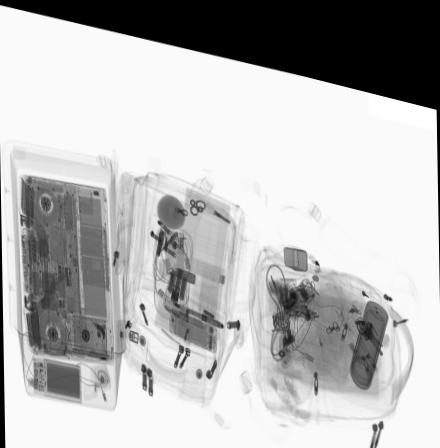Powerbank: (31, 352, 80, 397)
